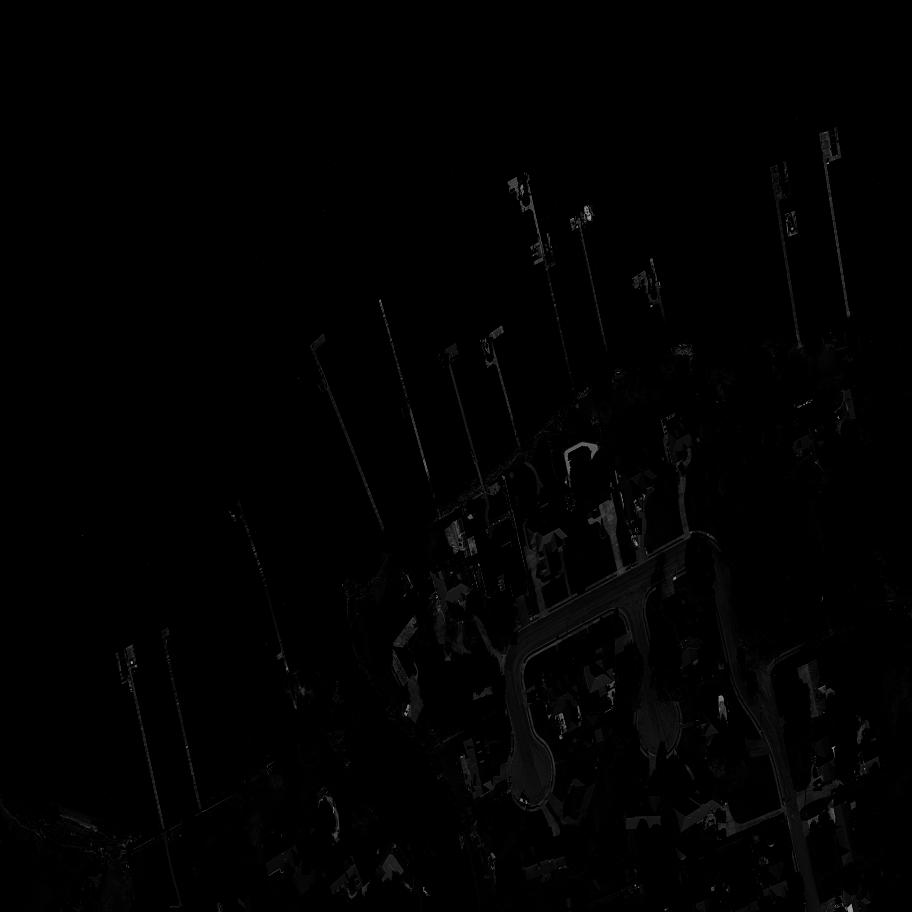ship: (228, 506, 242, 525), (482, 337, 494, 359), (437, 353, 449, 373), (584, 205, 596, 223), (519, 176, 526, 201), (648, 273, 655, 292), (423, 886, 432, 899), (779, 169, 784, 185), (120, 864, 127, 875), (125, 863, 129, 868)
small-vehicle: (632, 518, 644, 536), (302, 859, 313, 876), (714, 811, 728, 823), (402, 704, 413, 718), (630, 536, 641, 550), (633, 499, 644, 513), (827, 416, 837, 429), (527, 693, 538, 704), (819, 814, 830, 825), (628, 521, 637, 534), (509, 635, 519, 646), (405, 879, 415, 890), (495, 793, 507, 802), (678, 466, 687, 478), (461, 616, 472, 625), (491, 767, 502, 776), (849, 424, 860, 433), (835, 410, 843, 422), (536, 565, 543, 578), (834, 893, 844, 902), (718, 831, 728, 840), (535, 691, 546, 699), (812, 783, 823, 791), (819, 590, 824, 607), (534, 683, 543, 691), (519, 799, 529, 806), (824, 586, 829, 598), (835, 903, 843, 909), (863, 731, 870, 736)
